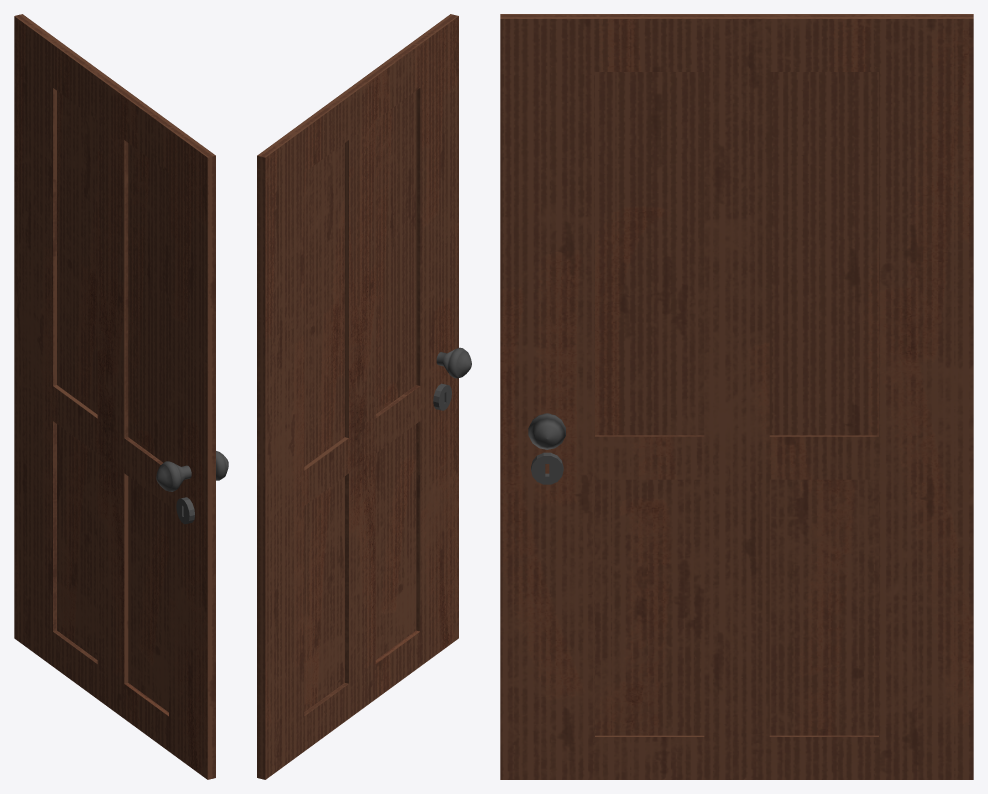
File: CabinBedroomDoor.fbx
The picture shows the model from 3 angles, left to right: view 1: azimuth 30°, elevation 25°; view 2: azimuth 150°, elevation 25°; view 3: azimuth 270°, elevation 25°; orthographic projection. The views are drawn at different scales.
Parts seen in each view (by area): view 1: Door.004, KeyholeFront.005; view 2: Door.004, KeyholeFront.005; view 3: Door.004, KeyholeBack.005.
Boxes of the visible parts, left/top/right/bottom form: Door.004: left=14, top=14, right=228, bottom=779; KeyholeFront.005: left=176, top=497, right=194, bottom=524; Door.004: left=257, top=14, right=471, bottom=779; KeyholeFront.005: left=433, top=383, right=451, bottom=410; Door.004: left=500, top=14, right=973, bottom=779; KeyholeBack.005: left=531, top=452, right=563, bottom=484.
Size of the model in its own units: 169 by 1419 by 800.
